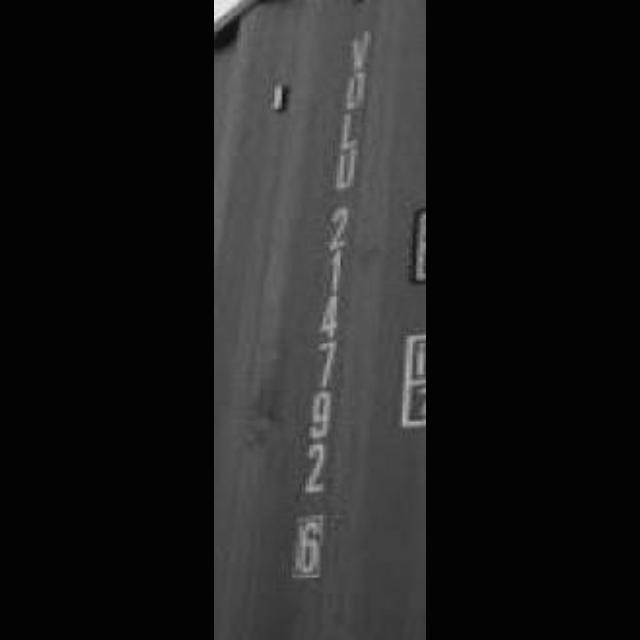1: (313, 248, 361, 300)
2: (296, 439, 342, 503), (318, 198, 366, 252)
4: (310, 289, 352, 343)
6: (288, 508, 330, 584)
7: (306, 336, 344, 394)
9: (302, 388, 341, 440)
l: (330, 109, 374, 155)
o: (334, 68, 386, 114)
u: (324, 148, 368, 194)
v: (342, 28, 386, 72)
